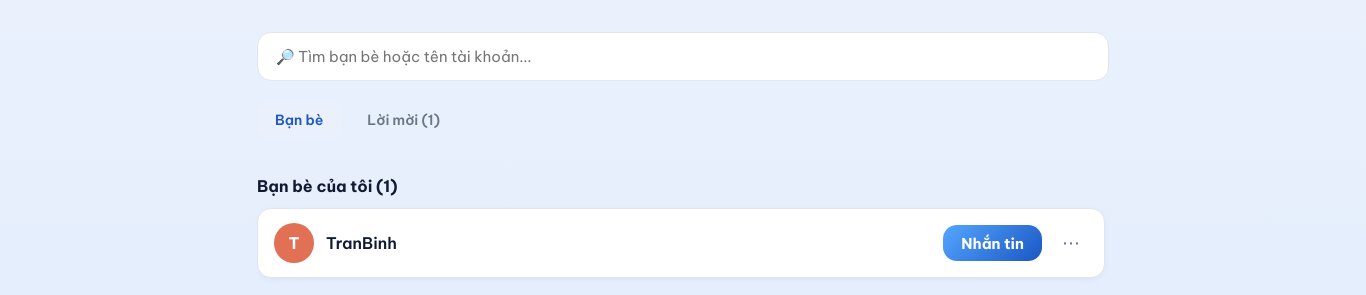
Scenario: TrangBanBe › nguoi khong cho phep nguoi la nhan tin: chi hien nut Ket ban, khong hien Nhan tin
Expected: the text "TranBinh" is shown, [326,233,397,253]
Type "HoangE" into the field with placeholder "🔎 Tìm bạn bè hoặc tên tài khoản...". click: (683,56)
box: [257,32,1109,81]
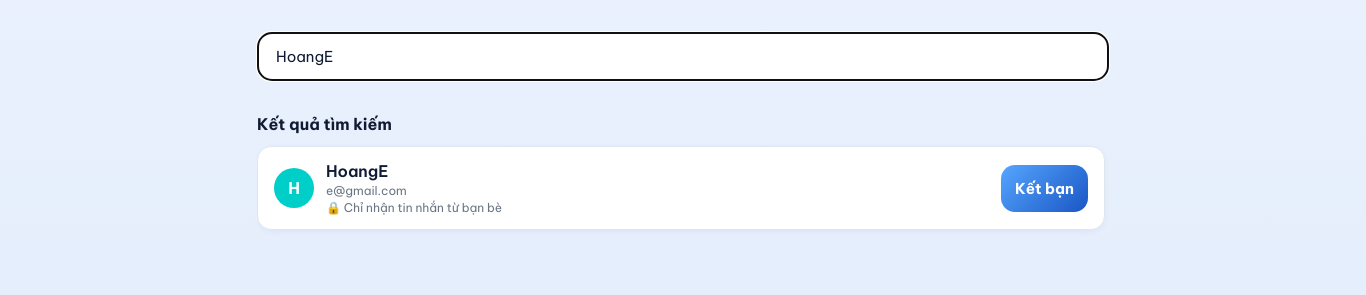
Now the list item "HoangE" shows "Chỉ nhận tin nhắn từ bạn bè", box [326,200,502,215]
Now the button "Nhắn tin" is gone
Now the button "Kết bạn" is shown, box [1001,165,1088,212]
